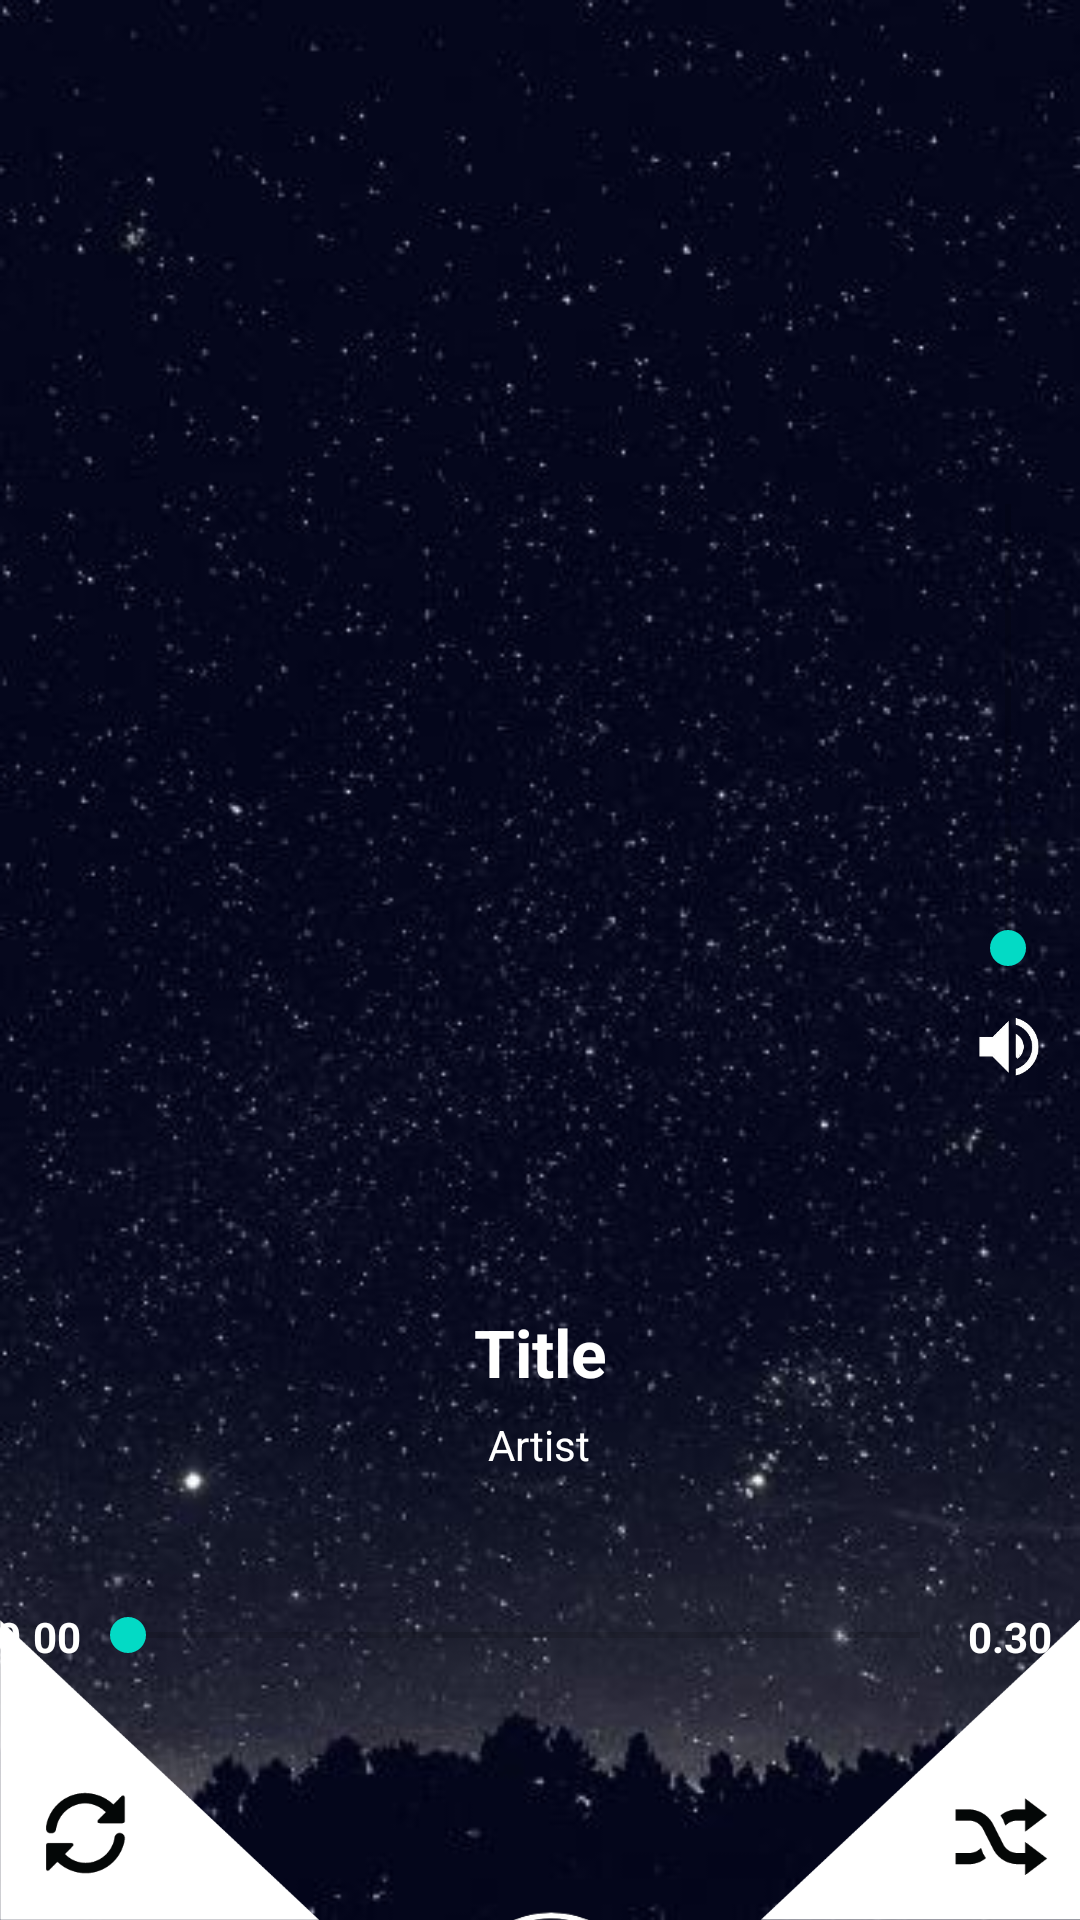

Where icons sit on this 1080 × 1920 app screen, as (x1, y1, x2, y2):
audio: (957, 996, 1050, 1101)
